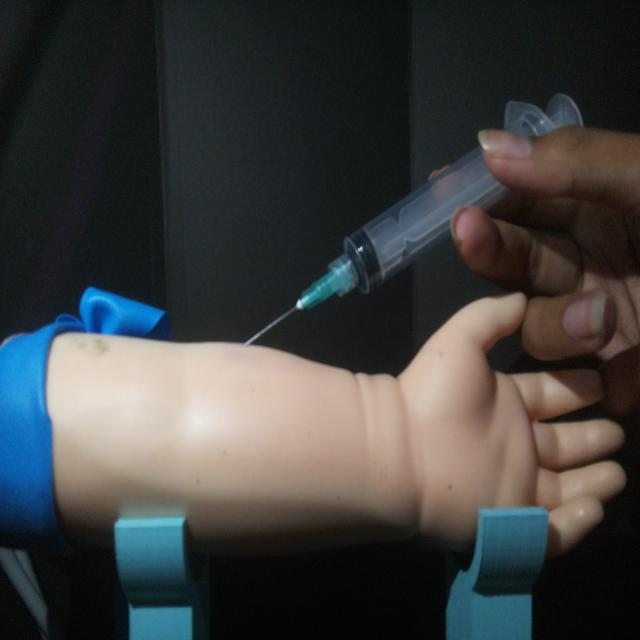30deg: (238, 87, 588, 352)
